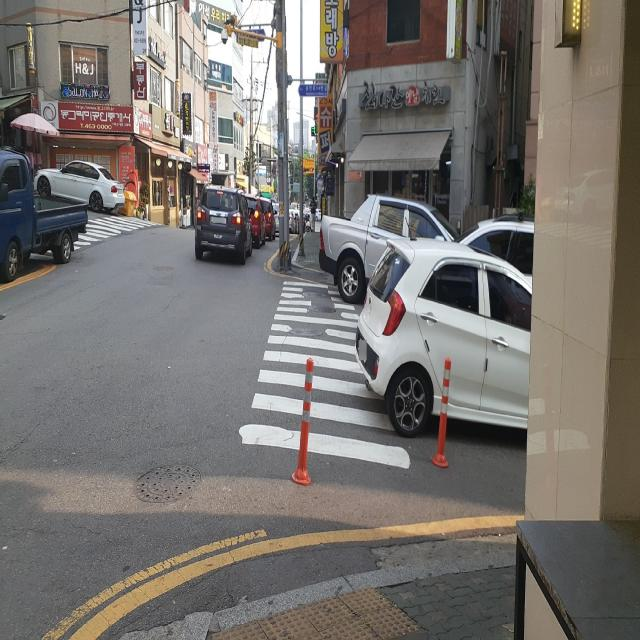횡단보도: (238, 280, 412, 471), (73, 219, 153, 243)
